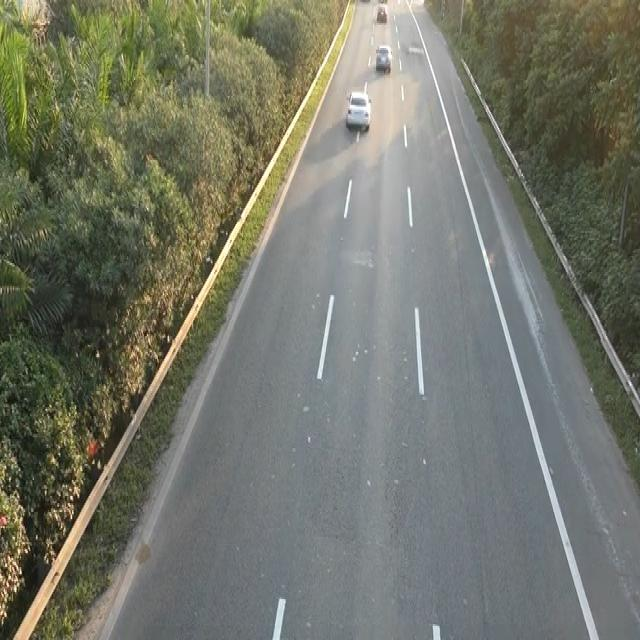bus: (343, 84, 375, 138), (374, 41, 392, 73)
